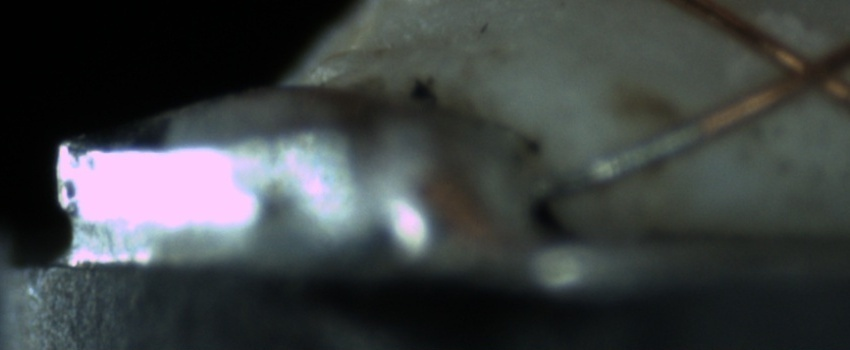CL: (758, 30, 848, 109)
TS: (532, 120, 696, 205)
